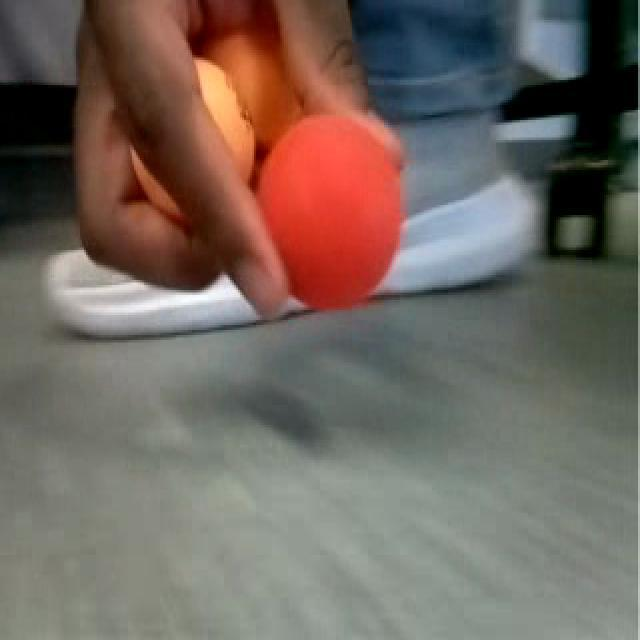ping-pong-ball: (248, 111, 408, 318)
